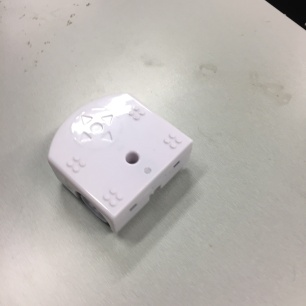thymio: (46, 91, 199, 239)
